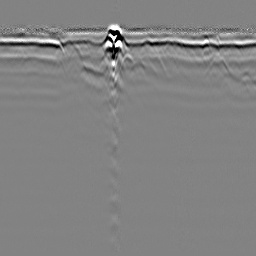cavity: (121, 50, 133, 67)
